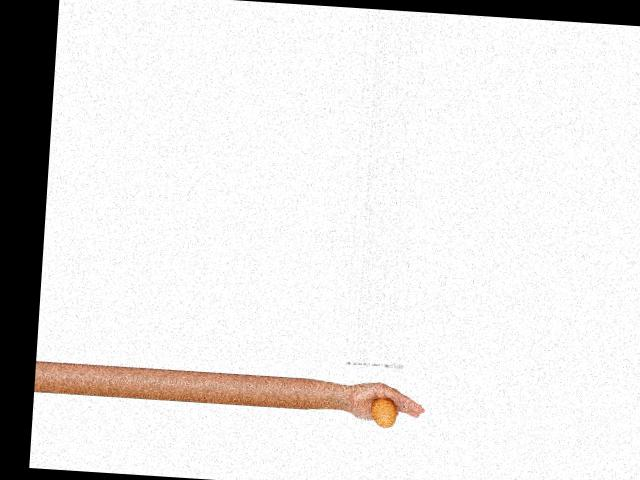egg: (370, 396, 398, 428)
